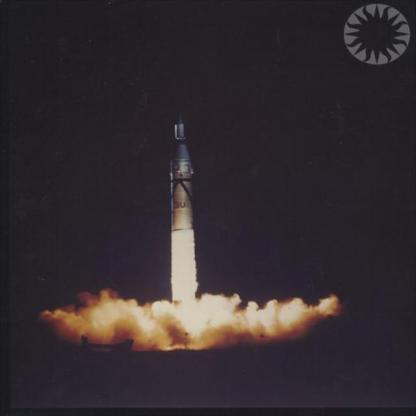MIL_TBM: (170, 108, 191, 235)
